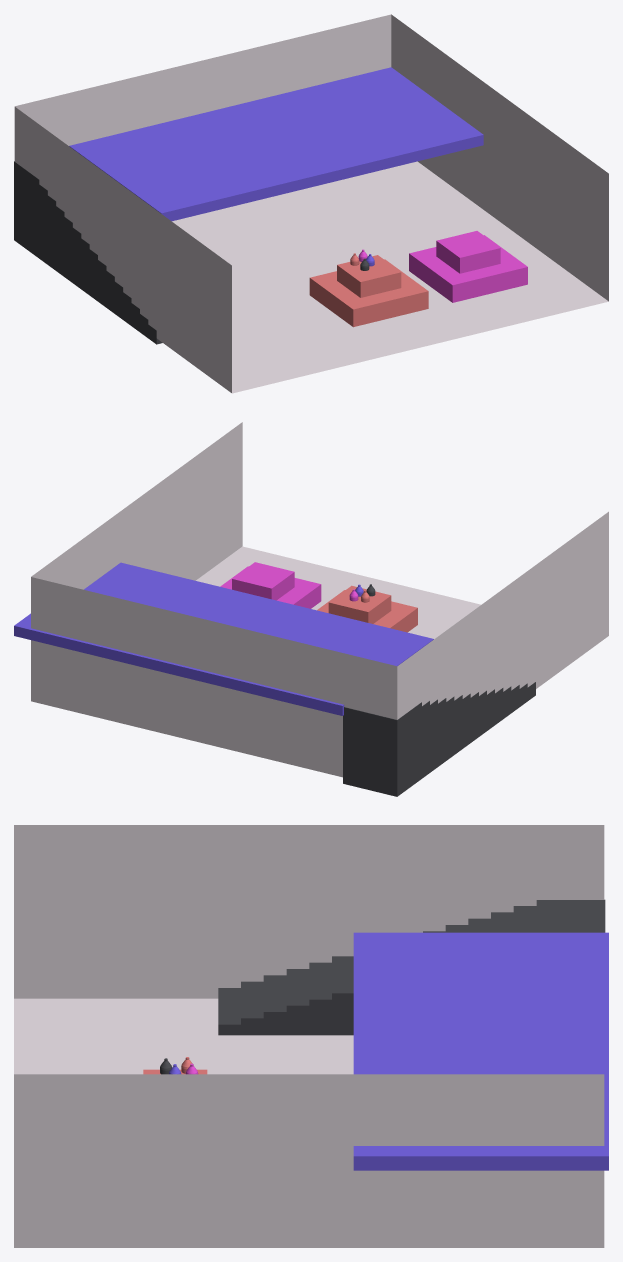
Rendered from room.fbx.
3 views of the same model, one above another, from view 1: azimuth 30°, elevation 25°; view 2: azimuth 150°, elevation 25°; view 3: azimuth 270°, elevation 25° (orthographic). The views are drawn at different scales.
Parts seen in each view (by area): view 1: Cube.003; view 2: Cube.003; view 3: Cube.003.
Part boxes in pixels (x1=…): Cube.003: x1=14, y1=14, x2=608, y2=393; Cube.003: x1=14, y1=422, x2=608, y2=796; Cube.003: x1=14, y1=825, x2=608, y2=1247.
Bounding box in the file's own units: 1042 × 340 × 1008.
